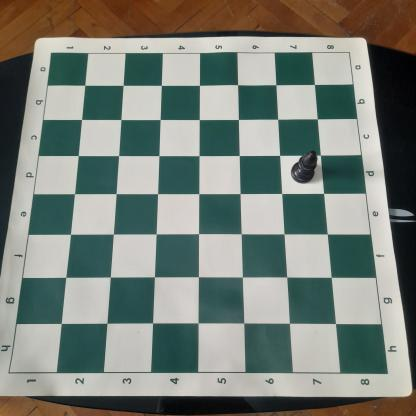black-bishop: (288, 150, 319, 184)
